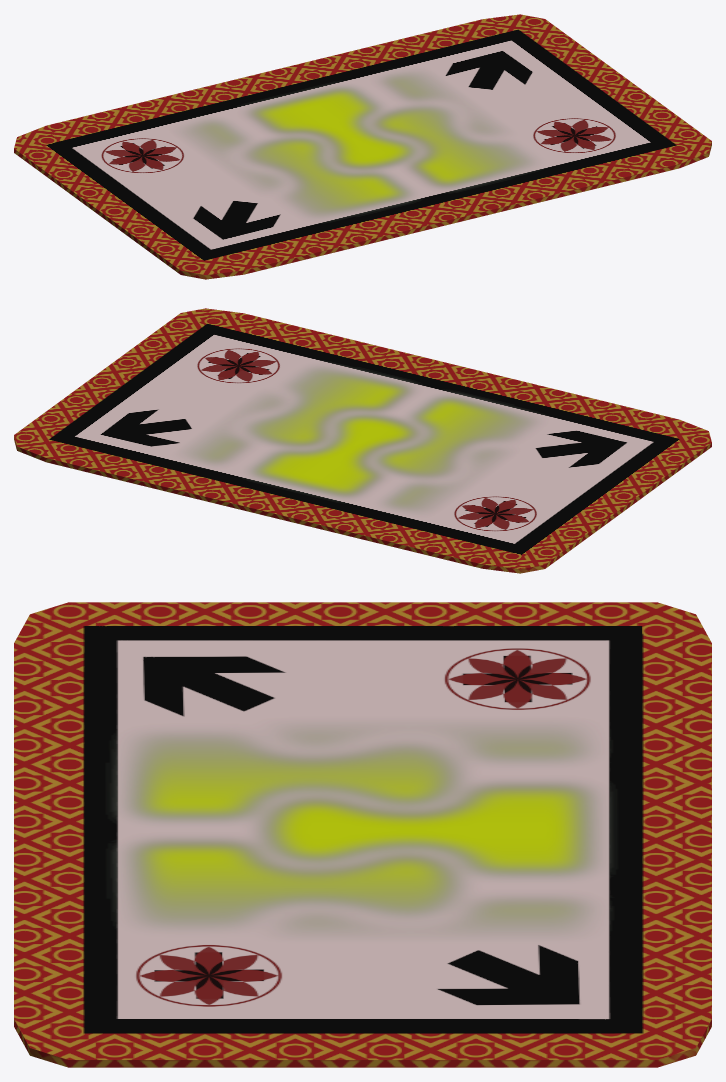
The model's file is Card.fbx.
The picture shows the model from 3 angles, top to bottom: view 1: azimuth 30°, elevation 25°; view 2: azimuth 150°, elevation 25°; view 3: azimuth 270°, elevation 25°; orthographic projection. The views are drawn at different scales.
Parts seen in each view (by area): view 1: Card; view 2: Card; view 3: Card.
Part boxes in pixels (<box>): Card: <box>14,14,711,279</box>; Card: <box>14,308,711,573</box>; Card: <box>14,602,711,1067</box>.
Bounding box in the file's own units: 12.81 × 0.1 × 8.26.
